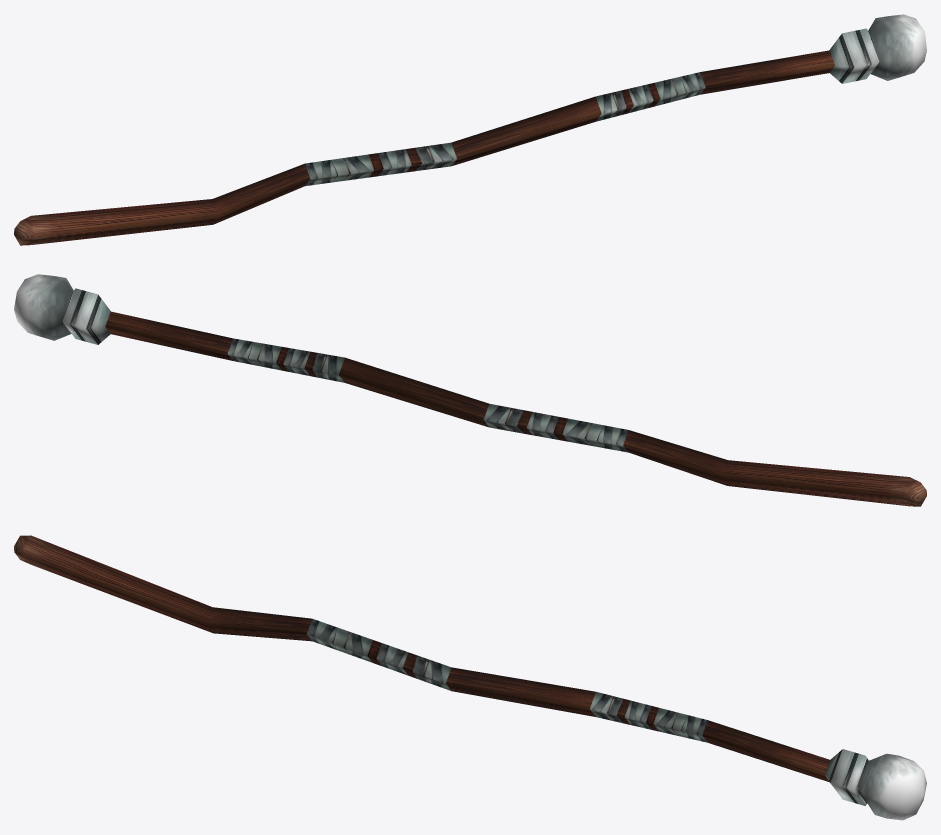
The model's file is orcstaff02.obj.
3 views of the same model, one above another, from view 1: azimuth 30°, elevation 25°; view 2: azimuth 150°, elevation 25°; view 3: azimuth 330°, elevation 25° (orthographic).
Visible parts, largest first — view 1: Geoset0, Geoset1; view 2: Geoset0, Geoset1; view 3: Geoset0, Geoset1.
Part boxes in pixels (x1,y1,x2,y2): Geoset0: [14, 50, 834, 245]; Geoset1: [829, 14, 926, 83]; Geoset0: [105, 311, 926, 506]; Geoset1: [14, 274, 110, 344]; Geoset0: [14, 535, 829, 782]; Geoset1: [825, 749, 926, 820].
Size of the model in its own units: 2.35 by 0.1808 by 0.147.
Materials: 1 (1 with a texture image).
